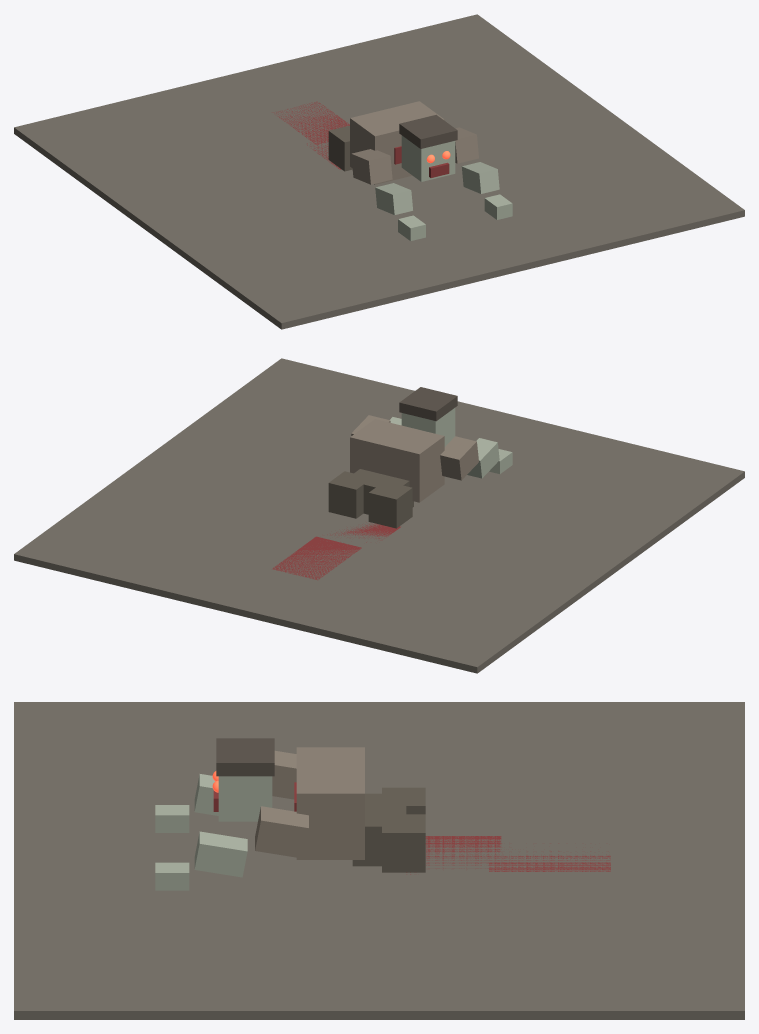
The model's file is crawler_zombie.glb.
3 renders of one model, top to bottom at view 1: azimuth 30°, elevation 25°; view 2: azimuth 150°, elevation 25°; view 3: azimuth 270°, elevation 25°, orthographic. The views are drawn at different scales.
Parts seen in each view (by area): view 1: ground, torso_mesh, head_mesh, blood_trail_2, hair_mesh, upper_arm_l, forearm_l, forearm_r, leg_stump_l, upper_arm_r, hand_r, hand_l; view 2: ground, torso_mesh, blood_trail_2, leg_stump_l, leg_stump_r, hair_mesh, upper_arm_l, head_mesh, forearm_l, pelvis_mesh, blood_trail_1; view 3: ground, torso_mesh, head_mesh, upper_arm_r, leg_stump_r, hair_mesh, pelvis_mesh, forearm_r, blood_trail_1, blood_trail_2, upper_arm_l, hand_r (+3 smaller).
Boxes of the visible parts, left/top/right/bottom form: ground: left=14, top=14, right=744, bottom=329; torso_mesh: left=350, top=101, right=444, bottom=184; head_mesh: left=401, top=135, right=455, bottom=181; blood_trail_2: left=272, top=101, right=349, bottom=144; hair_mesh: left=399, top=114, right=457, bottom=148; upper_arm_l: left=351, top=149, right=392, bottom=184; forearm_l: left=375, top=183, right=412, bottom=215; forearm_r: left=461, top=162, right=499, bottom=193; leg_stump_l: left=328, top=125, right=352, bottom=171; upper_arm_r: left=455, top=127, right=478, bottom=163; hand_r: left=484, top=194, right=512, bottom=219; hand_l: left=398, top=215, right=425, bottom=241; ground: left=14, top=358, right=744, bottom=673; torso_mesh: left=350, top=419, right=444, bottom=502; blood_trail_2: left=272, top=536, right=361, bottom=580; leg_stump_l: left=368, top=481, right=412, bottom=528; leg_stump_r: left=328, top=471, right=371, bottom=518; hair_mesh: left=399, top=387, right=457, bottom=421; upper_arm_l: left=440, top=436, right=478, bottom=480; head_mesh: left=401, top=408, right=455, bottom=446; forearm_l: left=467, top=438, right=499, bottom=478; pelvis_mesh: left=354, top=469, right=413, bottom=514; blood_trail_1: left=327, top=522, right=400, bottom=542; ground: left=14, top=702, right=744, bottom=1019; torso_mesh: left=296, top=747, right=364, bottom=859; head_mesh: left=218, top=776, right=272, bottom=821; upper_arm_r: left=255, top=806, right=308, bottom=858; leg_stump_r: left=382, top=814, right=425, bottom=872; hair_mesh: left=216, top=738, right=274, bottom=776; pelvis_mesh: left=352, top=793, right=406, bottom=866; forearm_r: left=194, top=831, right=247, bottom=877; blood_trail_1: left=406, top=836, right=501, bottom=874; blood_trail_2: left=489, top=843, right=610, bottom=871; upper_arm_l: left=272, top=750, right=296, bottom=799; hand_r: left=155, top=862, right=189, bottom=890.
Size of the model in its own units: 3 by 0.52 by 3.
